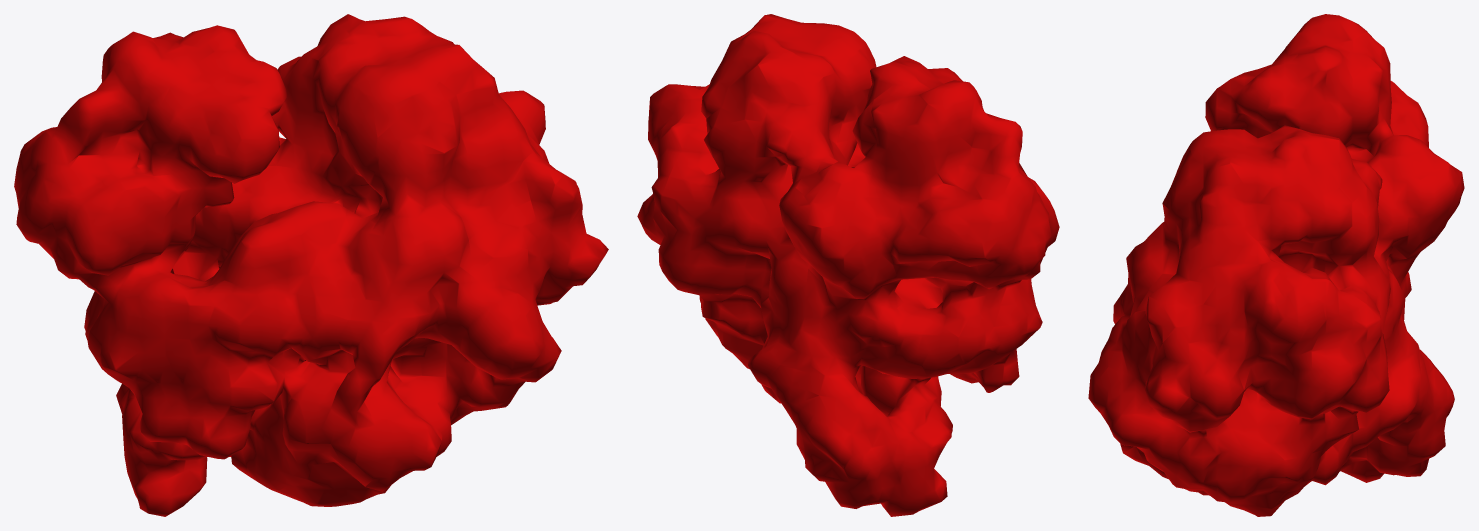
Rendered from CoarseMS_1w36.fbx.
3 renders of one model, left to right at view 1: azimuth 30°, elevation 25°; view 2: azimuth 150°, elevation 25°; view 3: azimuth 270°, elevation 25°, orthographic. The views are drawn at different scales.
Visible parts, largest first — view 1: CoarseMS_1w36_Mesh; view 2: CoarseMS_1w36_Mesh; view 3: CoarseMS_1w36_Mesh.
Boxes of the visible parts, x1,y1,x2,y2 form: CoarseMS_1w36_Mesh: (14,14,608,516); CoarseMS_1w36_Mesh: (637,14,1059,516); CoarseMS_1w36_Mesh: (1088,14,1464,516).
Bounding box in the file's own units: 145 × 137 × 105.
